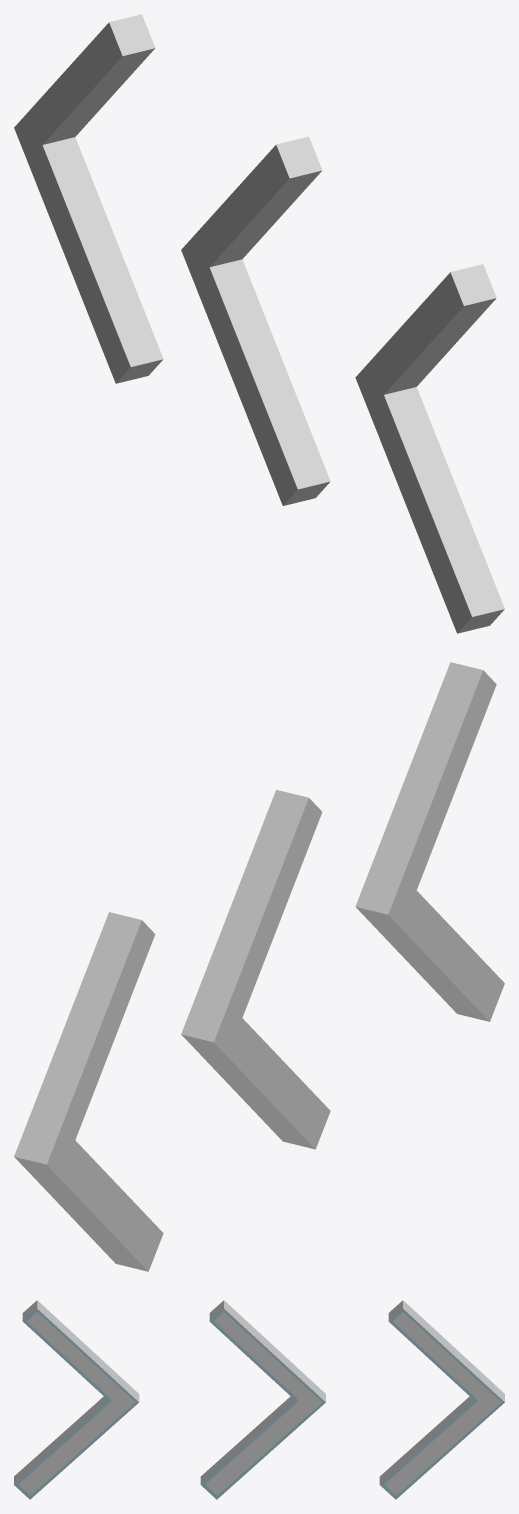
The model's file is noensign.fbx.
The picture shows the model from 3 angles, top to bottom: view 1: azimuth 30°, elevation 25°; view 2: azimuth 150°, elevation 25°; view 3: azimuth 270°, elevation 25°; orthographic projection. The views are drawn at different scales.
Parts seen in each view (by area): view 1: Cube.001; view 2: Cube.001; view 3: Cube.001.
Part boxes in pixels (<box>): Cube.001: <box>14,14,504,633</box>; Cube.001: <box>14,662,504,1271</box>; Cube.001: <box>14,1300,504,1499</box>.
Bounding box in the file's own units: 0.1009 × 1.05 × 2.44.
